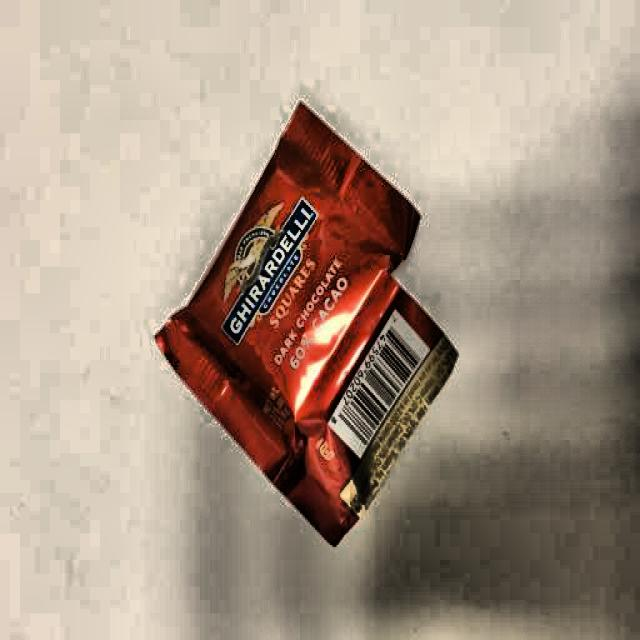trash: (150, 98, 461, 536)
